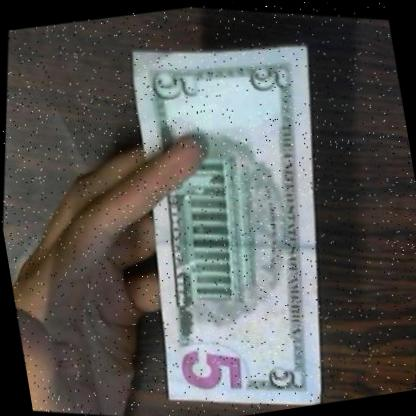five-back: (64, 3, 387, 416)
